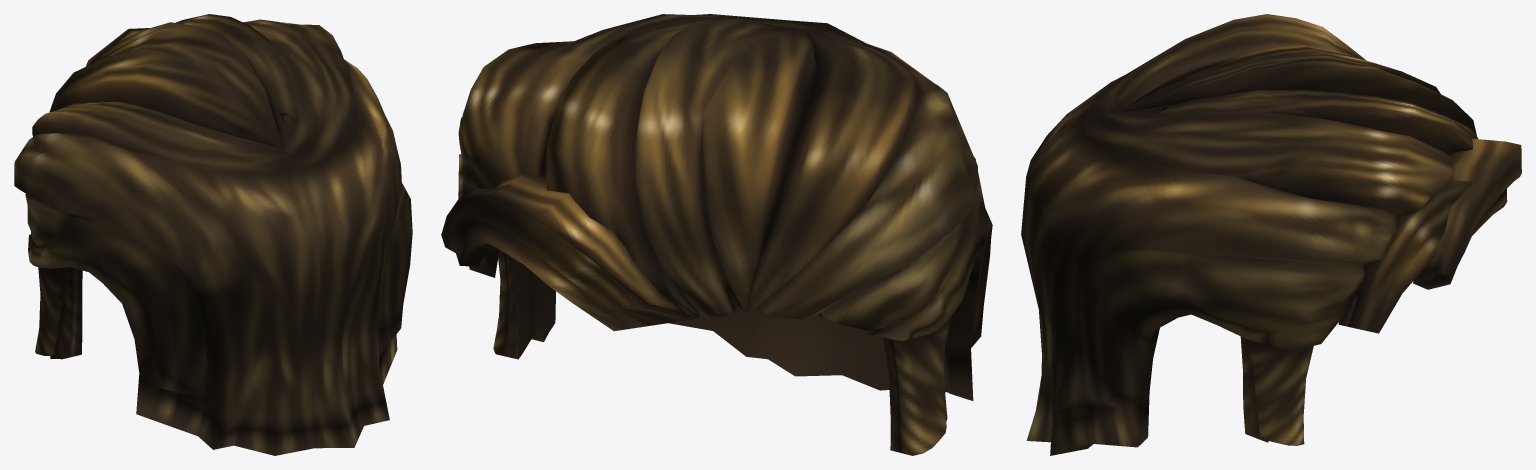
The picture shows the model from 3 angles, left to right: view 1: azimuth 30°, elevation 25°; view 2: azimuth 150°, elevation 25°; view 3: azimuth 270°, elevation 25°; orthographic projection. The views are drawn at different scales.
Parts seen in each view (by area): view 1: geometry_0; view 2: geometry_0; view 3: geometry_0.
Part boxes in pixels (x1,y1,x2,y2): geometry_0: (14, 14, 412, 455); geometry_0: (441, 14, 992, 455); geometry_0: (1021, 14, 1521, 455).
Bounding box in the file's own units: 1.49 × 1.36 × 1.65.
1 material, 1 textured.
